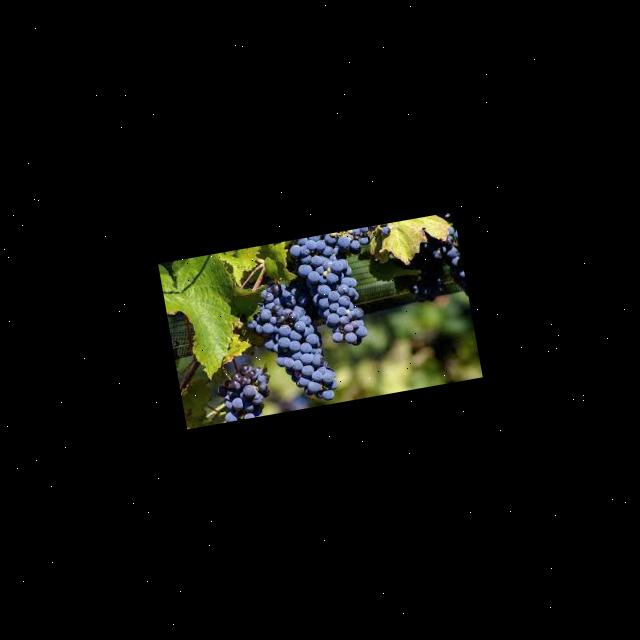grape: (239, 273, 340, 412), (286, 226, 389, 354), (212, 351, 276, 422)
